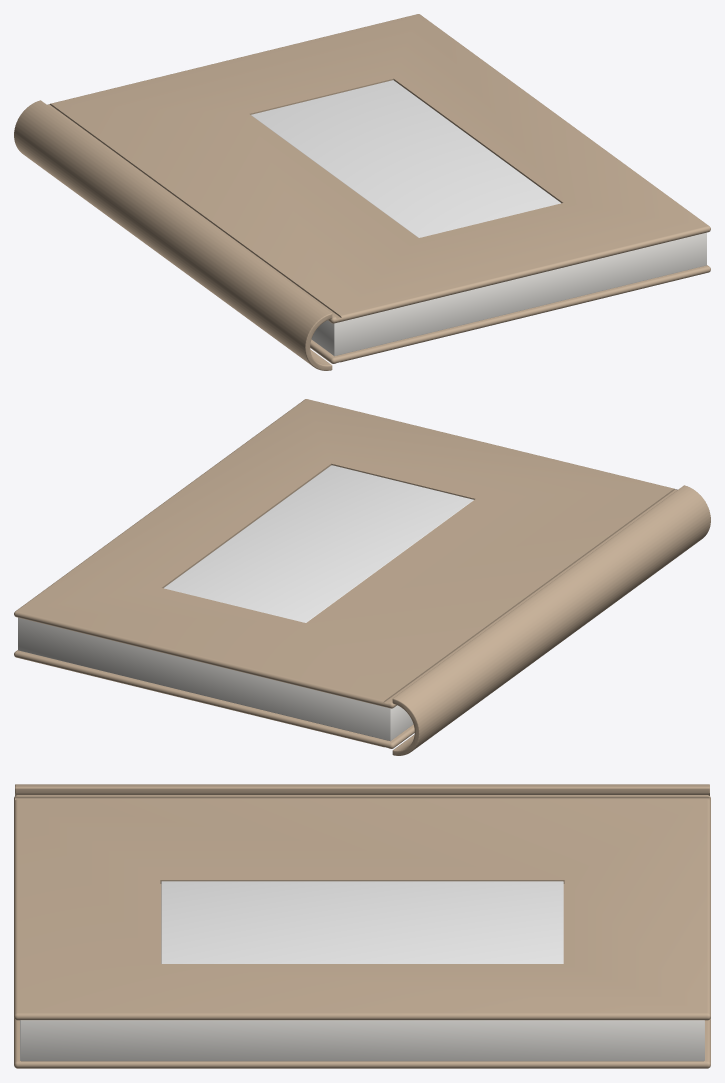
Rendered from photo-vertical--portrait.glb.
3 views of the same model, one above another, from view 1: azimuth 30°, elevation 25°; view 2: azimuth 150°, elevation 25°; view 3: azimuth 270°, elevation 25° (orthographic). The views are drawn at different scales.
Parts seen in each view (by area): view 1: CoverFront, Photo, Spine, Pages, CoverBack; view 2: CoverFront, Photo, Spine, Pages, CoverBack; view 3: CoverFront, Photo, Pages, Spine, CoverBack.
Part boxes in pixels (box(x1,y1,x2,y2)): CoverFront: box(47, 14, 710, 323); Photo: box(251, 80, 560, 237); Spine: box(14, 100, 332, 370); Pages: box(311, 232, 706, 356); CoverBack: box(310, 265, 710, 363); CoverFront: box(14, 399, 677, 708); Photo: box(164, 465, 473, 622); Spine: box(392, 485, 710, 755); Pages: box(18, 617, 413, 741); CoverBack: box(14, 650, 414, 748); CoverFront: box(14, 795, 710, 1020); Photo: box(161, 881, 563, 963); Pages: box(20, 1020, 704, 1061); Spine: box(15, 784, 709, 795); CoverBack: box(14, 1018, 710, 1068).
Bounding box in the file's own units: 0.3208 × 0.043 × 0.4.
